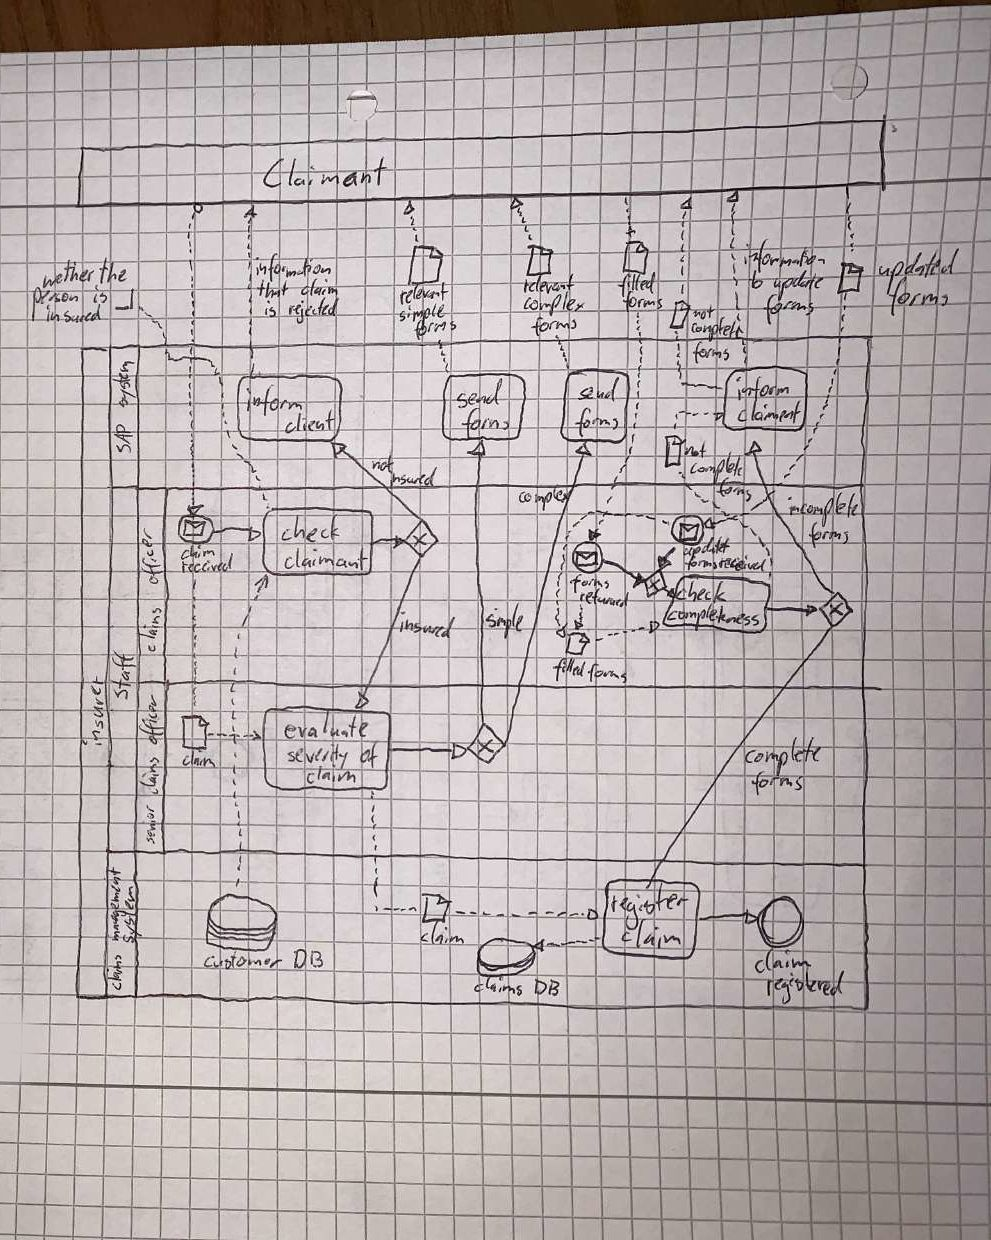Claimant: (260, 151, 398, 199)
Customer: (202, 949, 291, 973)
DB: (296, 948, 324, 971), (535, 978, 562, 999)
SAP: (109, 416, 137, 456)
check: (278, 517, 344, 546), (669, 582, 727, 606)
claim: (618, 916, 685, 952), (415, 919, 470, 951), (752, 952, 810, 976), (304, 765, 359, 788), (175, 742, 216, 773), (298, 281, 338, 302), (177, 542, 219, 558)
claimant: (282, 550, 374, 575)
claims: (141, 598, 164, 655), (472, 978, 532, 999), (138, 751, 163, 800), (107, 949, 125, 990)
clament: (732, 402, 804, 428)
client: (281, 410, 335, 435)
complete: (743, 738, 826, 770), (684, 456, 748, 480), (685, 319, 745, 340)
completeness: (666, 603, 766, 628)
complex: (514, 486, 570, 510), (521, 295, 584, 315)
evaluate: (285, 714, 372, 743)
filled: (614, 273, 661, 298), (551, 658, 580, 684)
forms: (881, 276, 951, 315), (757, 294, 815, 322), (569, 408, 619, 438), (458, 408, 509, 436), (803, 522, 851, 549), (408, 315, 457, 340), (748, 772, 807, 793), (688, 341, 734, 366), (582, 660, 627, 687), (530, 316, 577, 337), (679, 553, 715, 577), (620, 294, 666, 313), (710, 482, 755, 500), (569, 575, 614, 592)
incomplete: (784, 494, 861, 521)
inform: (239, 390, 304, 420), (730, 379, 792, 402)
information: (244, 257, 336, 285), (737, 243, 823, 269)
insured: (393, 606, 465, 641), (393, 460, 438, 492), (40, 306, 103, 326)
insurer: (88, 671, 108, 748)
is: (89, 282, 112, 305), (257, 302, 281, 323)
management: (107, 868, 125, 938)
not: (683, 438, 711, 457), (370, 453, 392, 474), (689, 305, 716, 321)
of: (359, 744, 382, 770)
officer: (136, 531, 163, 587), (138, 694, 164, 747)
person: (28, 282, 79, 306)
received: (712, 554, 767, 577), (177, 556, 237, 575)
register: (604, 888, 695, 918)
registered: (761, 972, 847, 1003)
rejected: (284, 298, 337, 323)
relevant: (396, 282, 452, 303), (521, 277, 575, 296)
returned: (574, 589, 632, 611)
send: (581, 380, 630, 406), (455, 388, 502, 410)
senior: (142, 802, 158, 845)
severity: (283, 744, 350, 763)
simple: (484, 599, 534, 646), (395, 302, 449, 323)
staff: (109, 649, 134, 701)
system: (118, 879, 141, 948), (111, 354, 138, 411)
that: (253, 280, 290, 302)
the: (92, 261, 129, 290)
to: (741, 269, 765, 295)
update: (768, 263, 834, 295), (678, 534, 732, 557)
updated: (878, 248, 961, 288)
wether: (42, 261, 96, 290)
